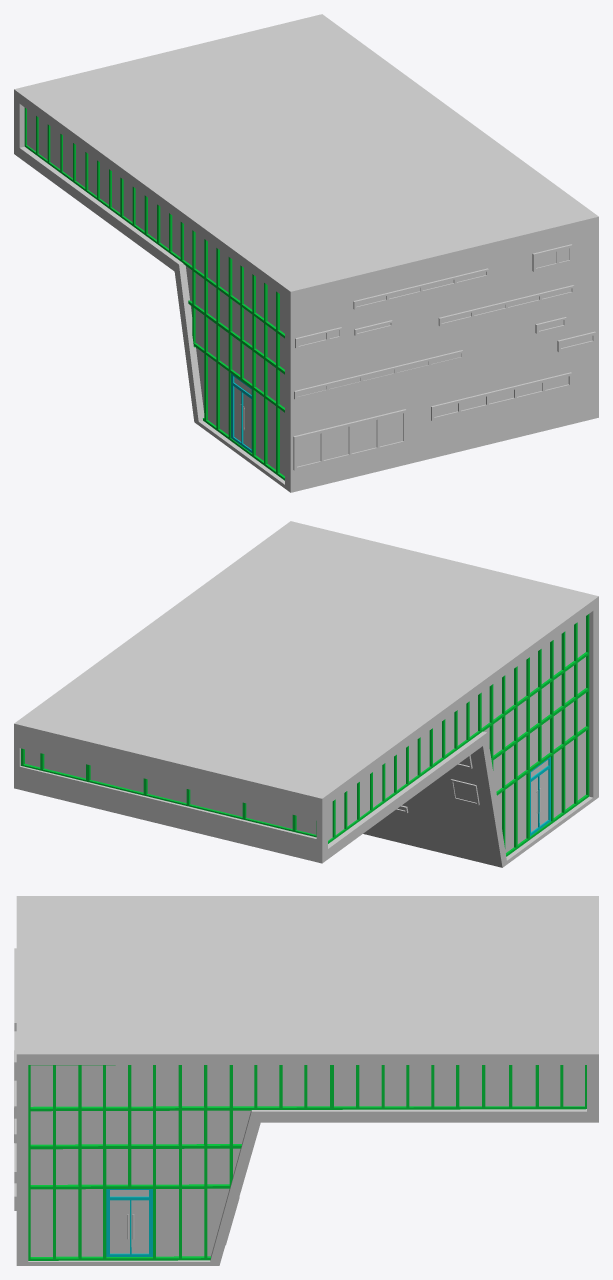
File: Bat_Port_3.fbx
3 views of the same model, one above another, from view 1: azimuth 30°, elevation 25°; view 2: azimuth 150°, elevation 25°; view 3: azimuth 270°, elevation 25° (orthographic). The views are drawn at different scales.
Visible parts, largest first — view 1: Bat_Port_3; view 2: Bat_Port_3; view 3: Bat_Port_3.
Boxes of the visible parts, x1,y1,x2,y2 form: Bat_Port_3: [14, 14, 598, 492]; Bat_Port_3: [14, 521, 598, 867]; Bat_Port_3: [14, 896, 598, 1265].
Bounding box in the file's own units: 1738 × 1083 × 2714.
